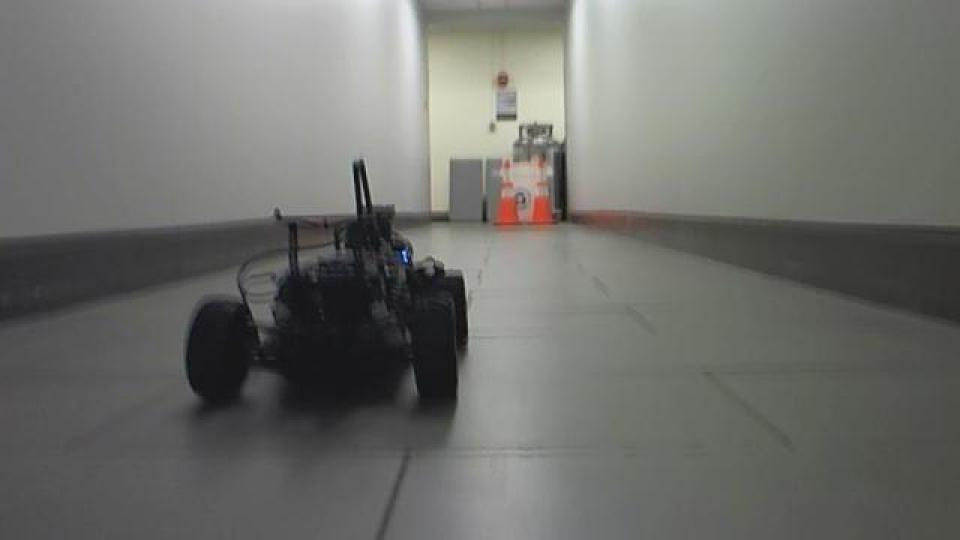car: (180, 156, 471, 411)
